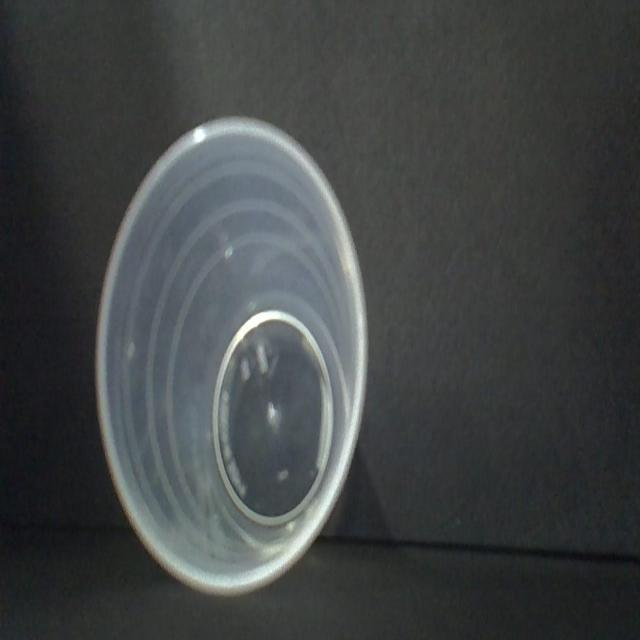cup: (96, 117, 370, 598)
